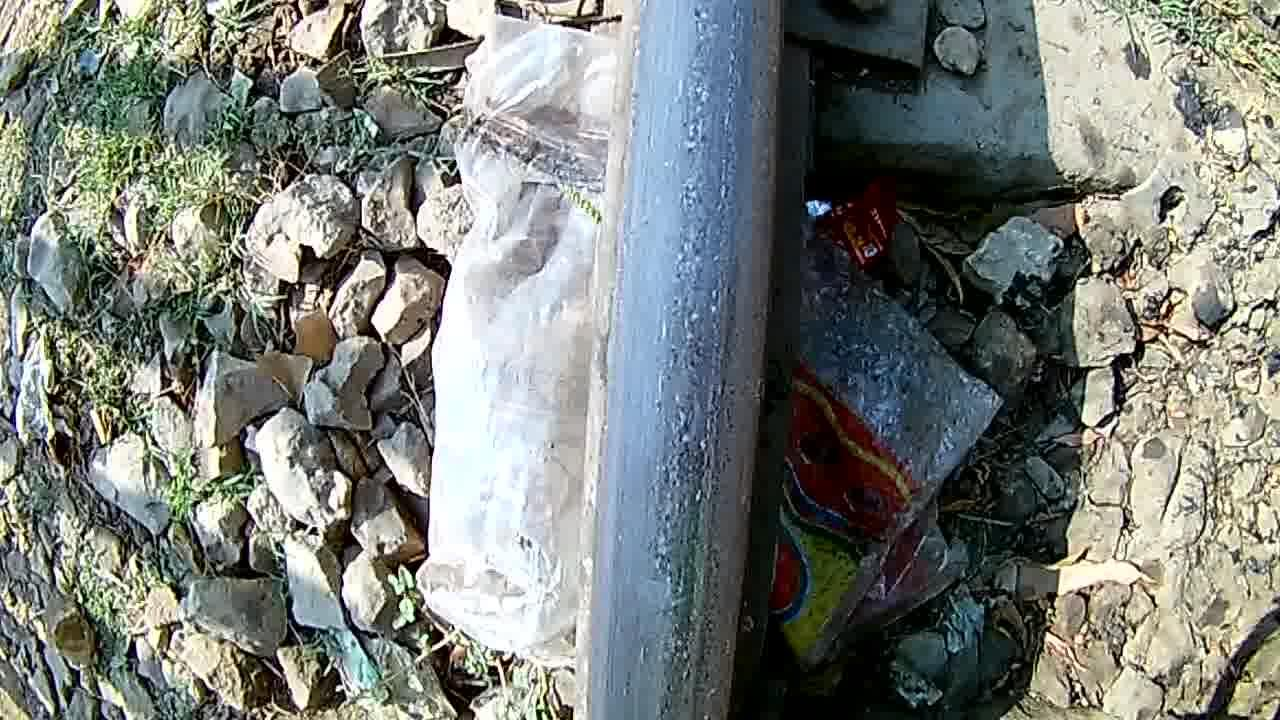clip_missing: (617, 0, 762, 720)
